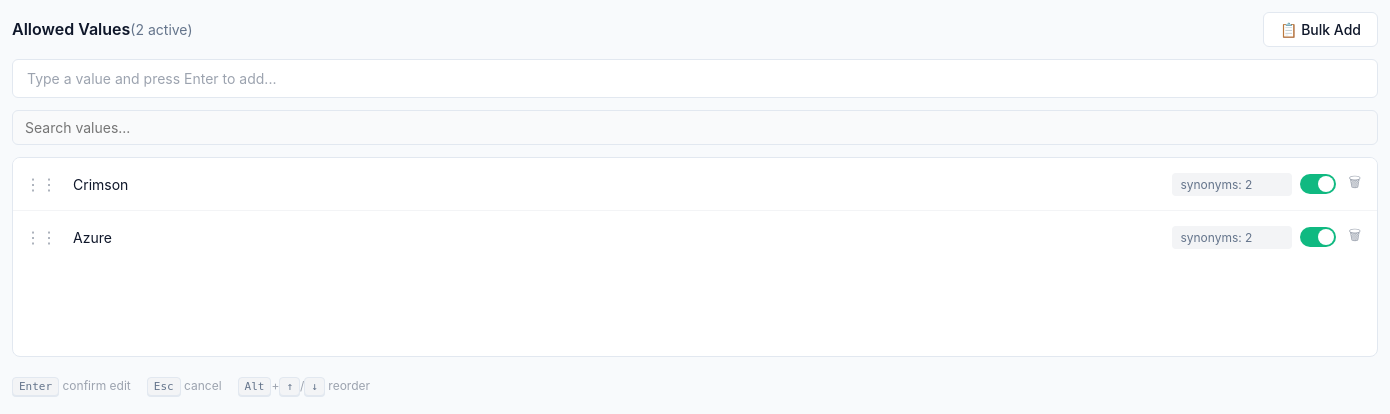
Test case: ValuesManager › Search › searches in synonyms
Step 1. Type "scarlet" into the field with test id "values-search" → {"x": 695, "y": 128}, box [12,110,1378,145]
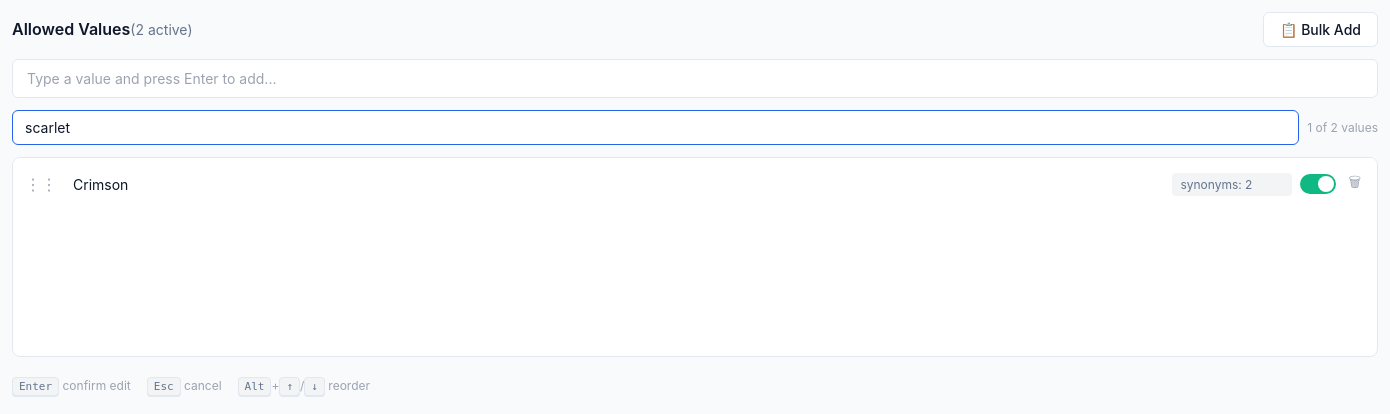
Expected: the text "Crimson" is shown, [69,172,132,196]
Now the text "Azure" is gone
